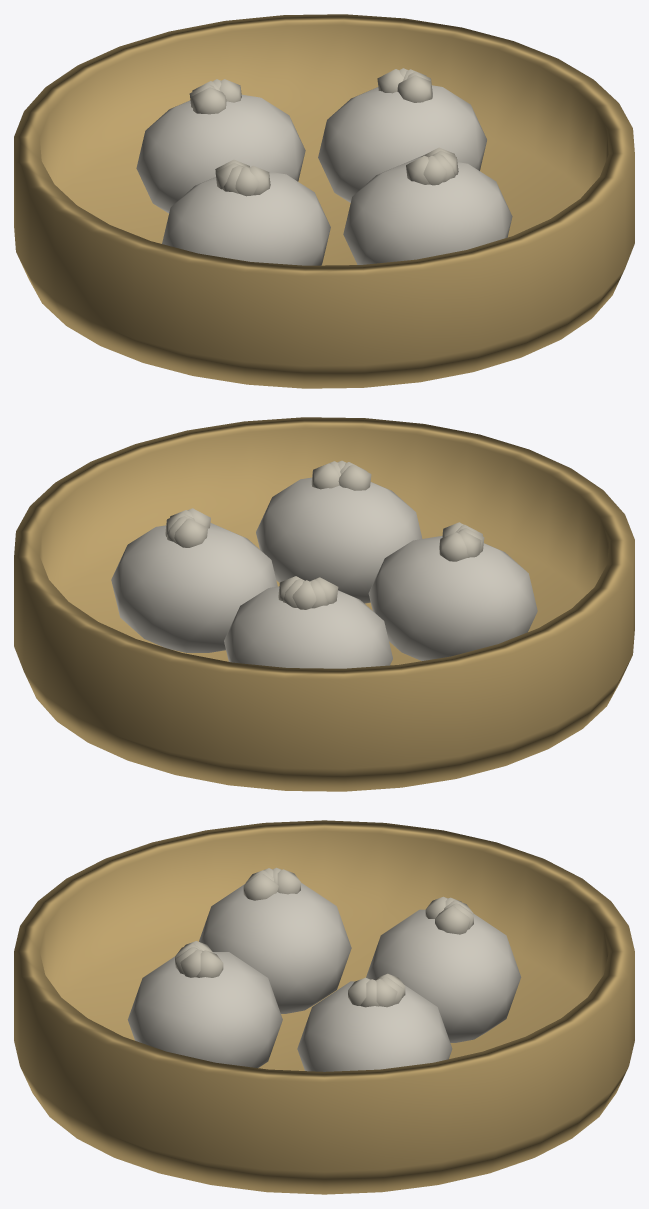
The model's file is item_dish_dumplings.glb.
3 renders of one model, top to bottom at view 1: azimuth 30°, elevation 25°; view 2: azimuth 150°, elevation 25°; view 3: azimuth 270°, elevation 25°, orthographic.
Parts seen in each view (by area): view 1: item_dish_dumplings_main; view 2: item_dish_dumplings_main; view 3: item_dish_dumplings_main.
Part boxes in pixels (x1,y1,x2,y2): item_dish_dumplings_main: (14, 14, 634, 388); item_dish_dumplings_main: (14, 417, 634, 791); item_dish_dumplings_main: (14, 820, 634, 1194).
Size of the model in its own units: 0.24 by 0.062 by 0.24.
